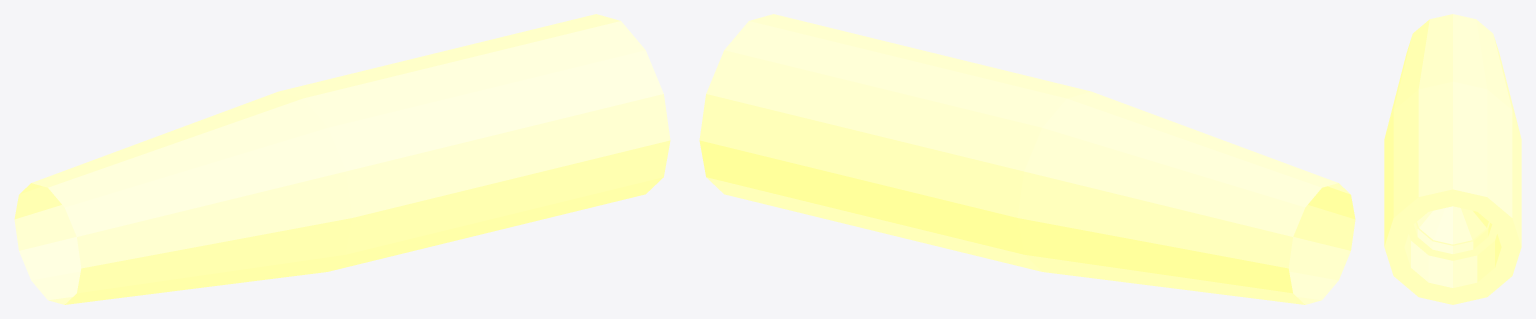
The model's file is mig21afterburner.glb.
The picture shows the model from 3 angles, left to right: view 1: azimuth 30°, elevation 25°; view 2: azimuth 150°, elevation 25°; view 3: azimuth 270°, elevation 25°; orthographic projection. The views are drawn at different scales.
Parts seen in each view (by area): view 1: Object_1 1; view 2: Object_1 1; view 3: Object_1 1.
Boxes of the visible parts, x1=… form: Object_1 1: x1=14, y1=14, x2=670, y2=304; Object_1 1: x1=699, y1=14, x2=1355, y2=304; Object_1 1: x1=1384, y1=14, x2=1521, y2=304.
Size of the model in its own units: 2.73 by 0.7586 by 0.8169.
